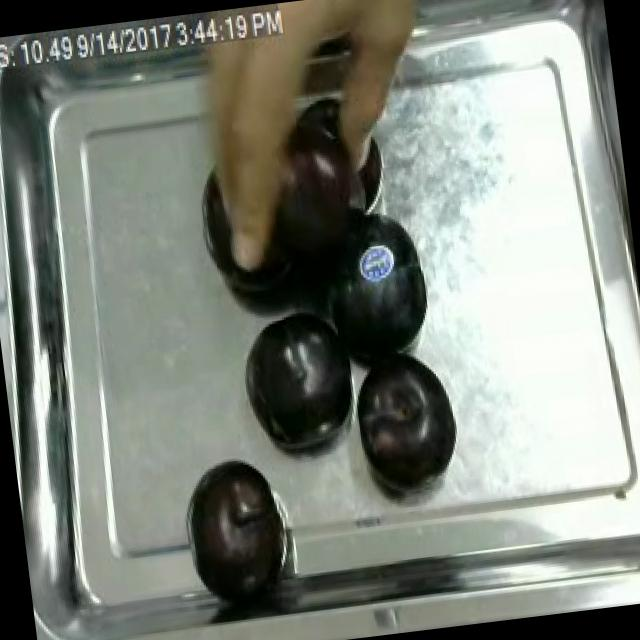Fruit: (228, 297, 362, 459), (346, 344, 464, 494), (180, 450, 292, 585), (344, 230, 409, 296)
